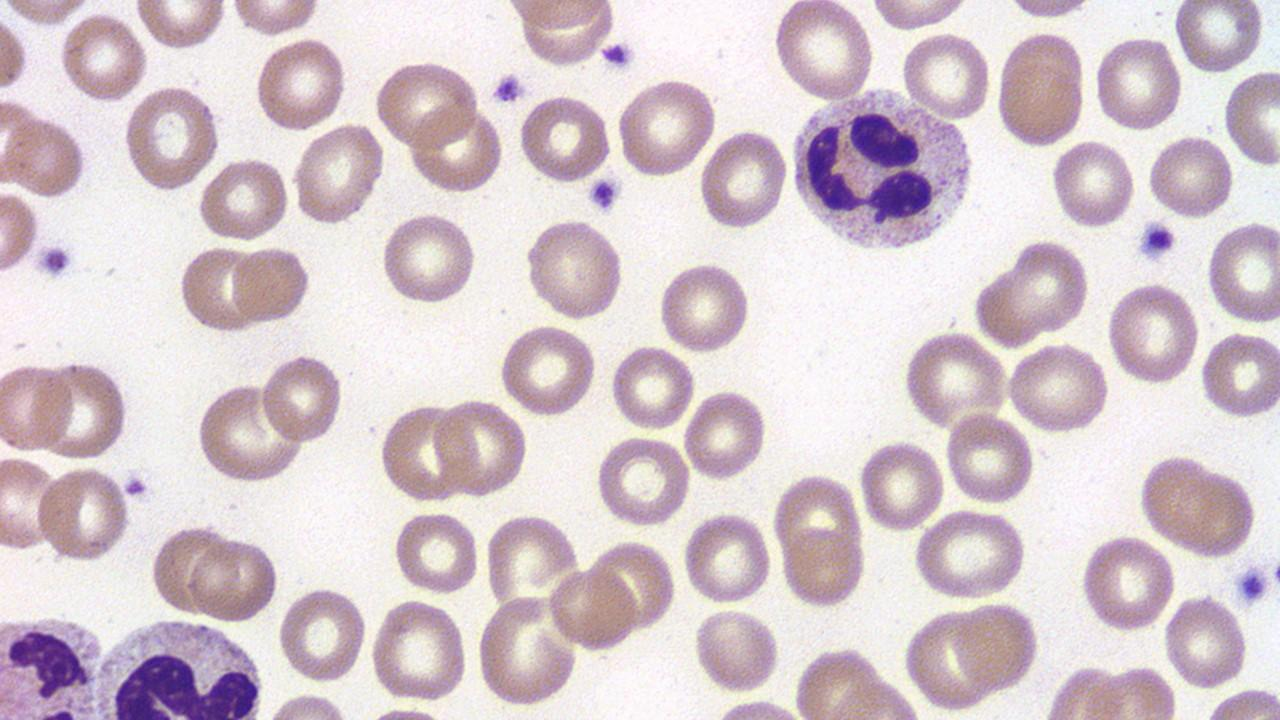Platelets: (1136, 217, 1178, 264), (34, 239, 77, 283), (1234, 562, 1272, 608), (586, 174, 622, 215), (596, 38, 637, 73), (489, 70, 526, 106), (120, 472, 150, 501)
RBC: (1134, 452, 1260, 559), (474, 589, 582, 709), (900, 328, 1012, 433), (192, 381, 304, 485), (992, 28, 1088, 149), (366, 595, 470, 705), (121, 82, 220, 194), (769, 1, 877, 103), (911, 508, 1028, 602), (614, 77, 720, 180), (524, 216, 626, 322), (1103, 280, 1201, 387), (371, 56, 482, 149), (1006, 338, 1112, 435), (432, 394, 530, 498), (1078, 531, 1176, 634), (289, 122, 385, 227), (482, 512, 582, 612), (496, 322, 598, 418), (698, 126, 790, 232), (904, 605, 995, 712), (39, 355, 130, 462), (378, 209, 478, 306), (37, 461, 130, 565), (593, 431, 692, 528), (378, 399, 468, 505), (252, 35, 348, 134), (1090, 33, 1184, 133), (276, 583, 369, 684), (942, 410, 1038, 507), (656, 258, 752, 355), (516, 92, 614, 186), (56, 8, 149, 107), (898, 28, 993, 123), (1161, 590, 1249, 692), (856, 436, 946, 533), (407, 108, 507, 194), (1048, 136, 1136, 233), (682, 512, 774, 604), (682, 386, 768, 484), (952, 598, 1041, 692), (1204, 216, 1280, 326), (1008, 237, 1092, 336), (692, 604, 782, 696), (592, 536, 676, 634), (1145, 130, 1235, 221), (190, 532, 279, 624), (196, 156, 290, 243), (259, 351, 345, 446), (391, 507, 481, 597), (175, 242, 262, 335), (147, 520, 232, 615), (608, 341, 696, 432), (546, 564, 634, 651), (778, 524, 868, 608), (1198, 328, 1280, 420), (2, 112, 87, 200), (0, 358, 76, 456), (972, 256, 1049, 349), (1171, 1, 1267, 75), (230, 243, 312, 326), (0, 454, 63, 556), (1222, 67, 1280, 168), (1086, 661, 1180, 719), (131, 1, 230, 52), (0, 95, 47, 185), (506, 0, 616, 34), (0, 191, 41, 277), (226, 2, 322, 38), (866, 0, 974, 31), (0, 3, 31, 98), (0, 0, 90, 28), (1005, 0, 1091, 21)
WBC: (788, 82, 978, 260), (60, 614, 272, 718), (2, 618, 117, 720)
